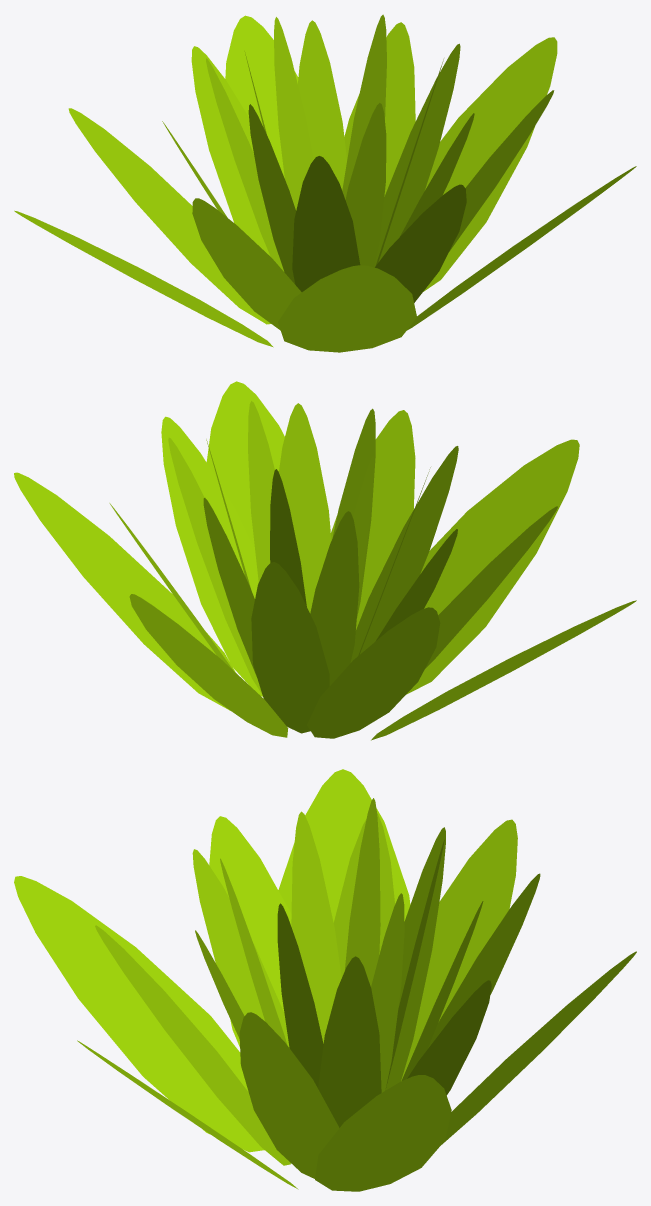
Rendered from LongGrass.fbx.
3 renders of one model, top to bottom at view 1: azimuth 30°, elevation 25°; view 2: azimuth 150°, elevation 25°; view 3: azimuth 270°, elevation 25°, orthographic. The views are drawn at different scales.
Parts seen in each view (by area): view 1: Circle; view 2: Circle; view 3: Circle.
Boxes of the visible parts, box(x1,y1,x2,y2) form: Circle: box(14, 14, 636, 352); Circle: box(14, 381, 636, 740); Circle: box(14, 769, 636, 1191).
Bounding box in the file's own units: 8.54 × 4.04 × 7.08.
